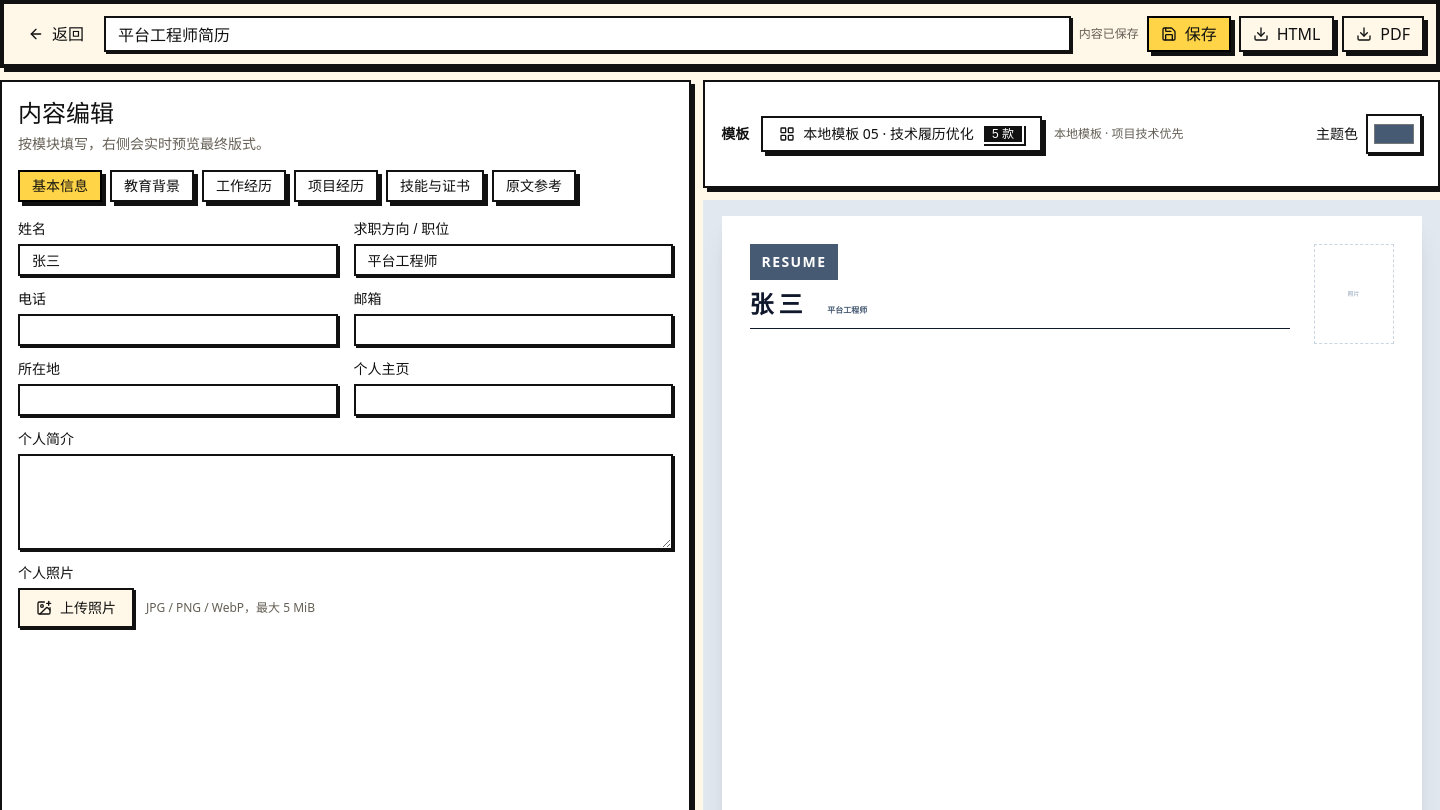
it: resume writer template and project materials › uses another candidate project directly and edits technologies as horizontal tokens
Click the button "项目经历" at {"x": 336, "y": 186}, box left=294, top=170, right=378, bottom=202
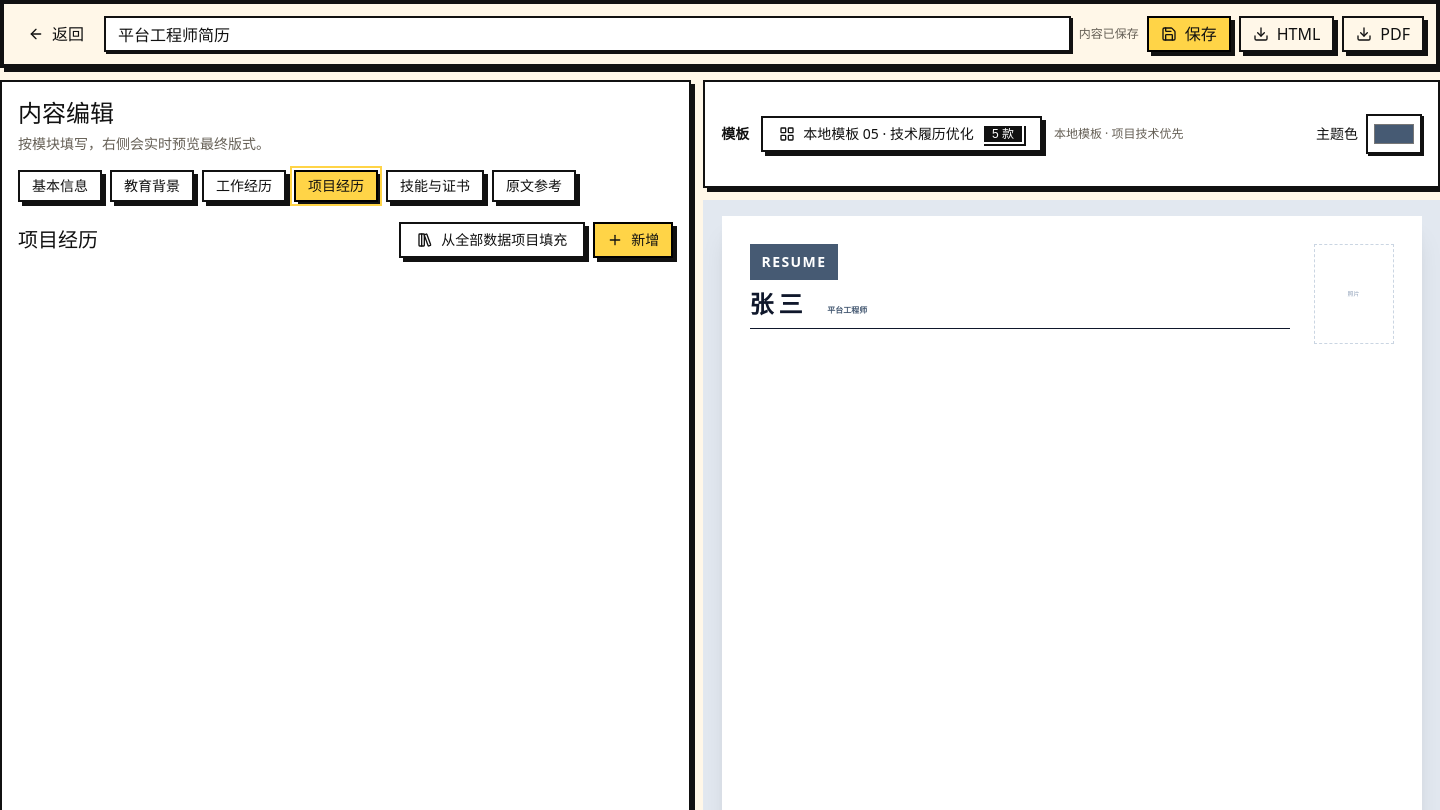
Click the button "从全部数据项目填充" at {"x": 492, "y": 240}, box left=399, top=222, right=585, bottom=258
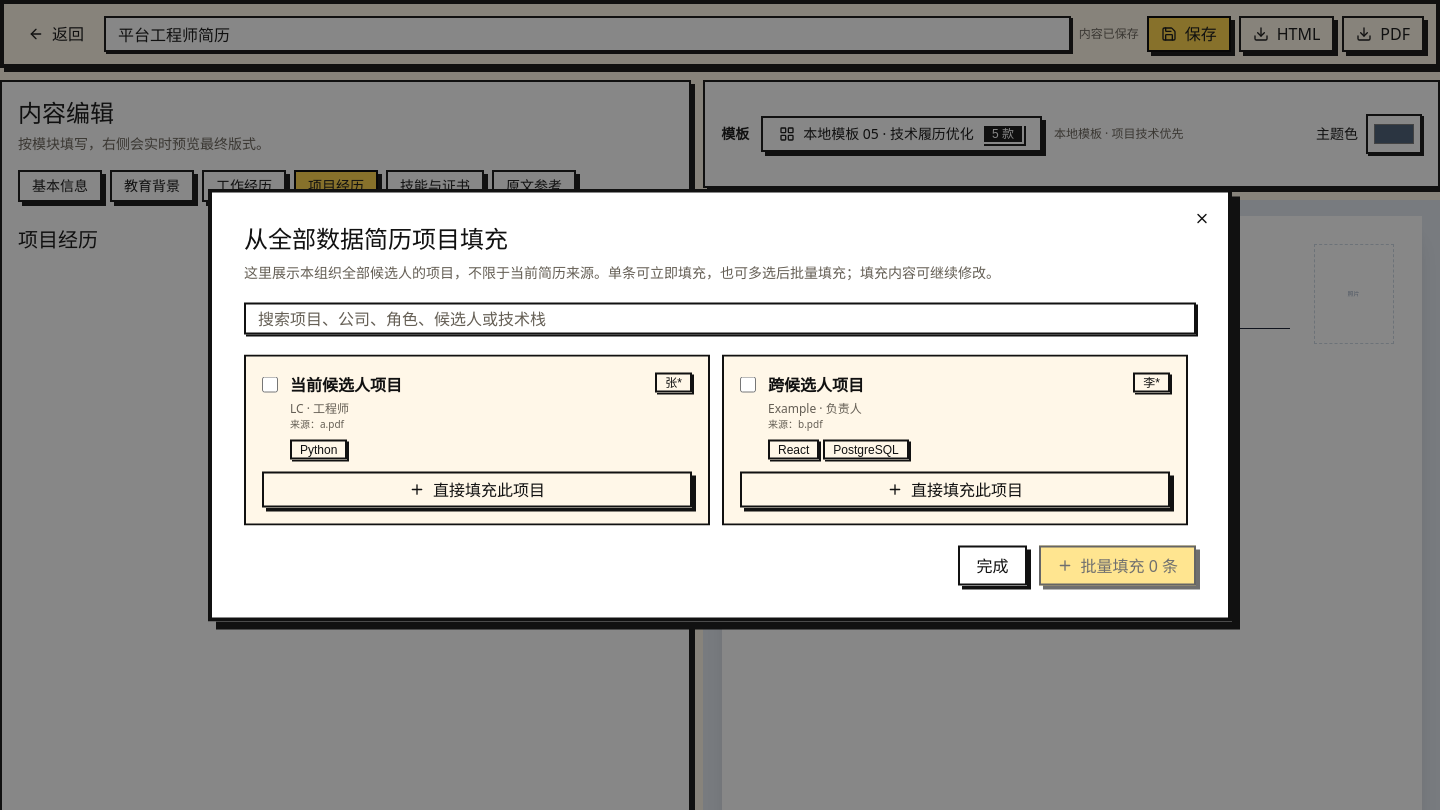
Result: the text "当前候选人项目" is shown at left=290, top=372, right=402, bottom=396
Result: the text "跨候选人项目" is shown at left=768, top=374, right=864, bottom=396
Result: the icon "李*" is shown at left=1133, top=372, right=1170, bottom=392
Click the button "直接填充此项目" below "React" at {"x": 955, "y": 490}, box left=740, top=472, right=1170, bottom=508
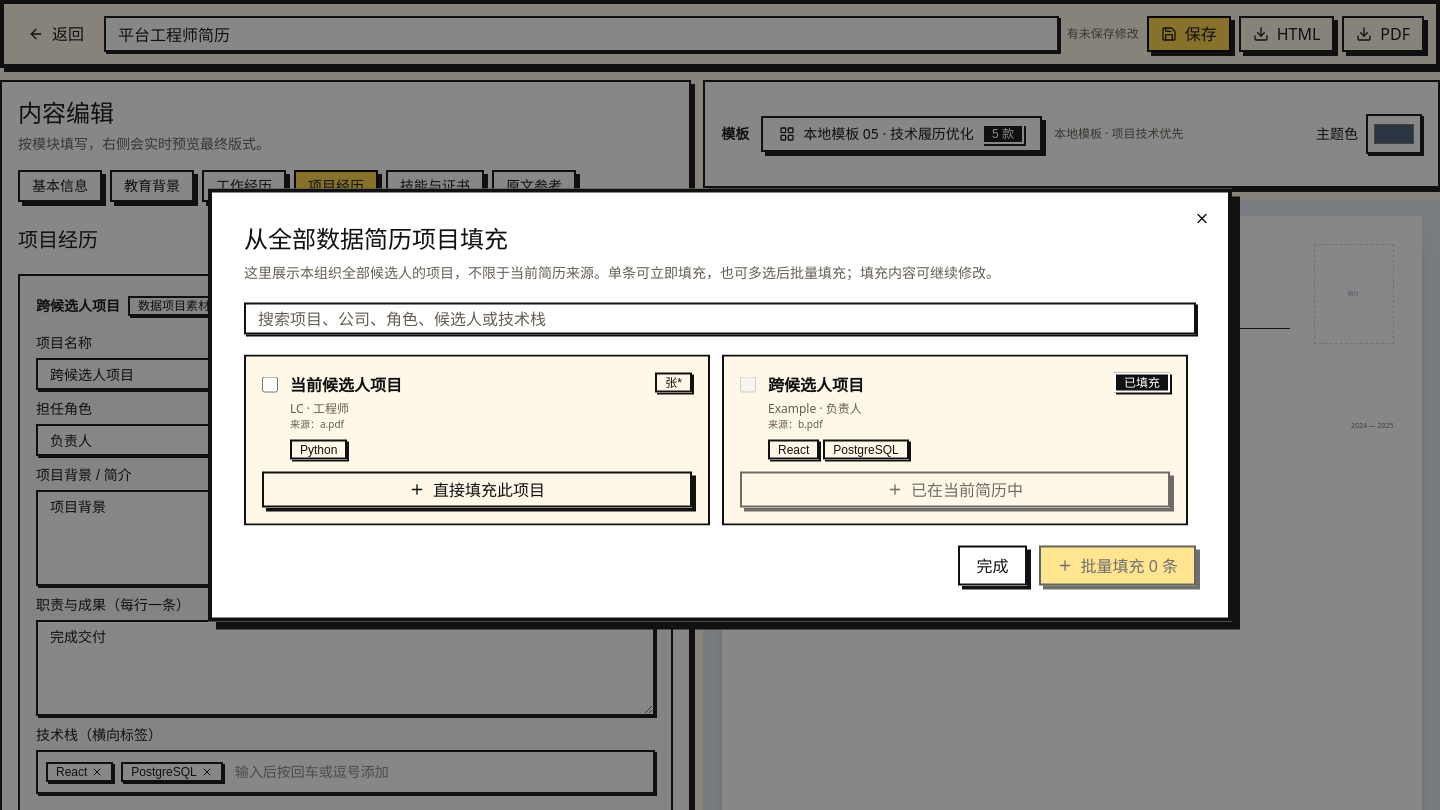
Click the button "完成" at {"x": 992, "y": 566}, box left=958, top=546, right=1026, bottom=586
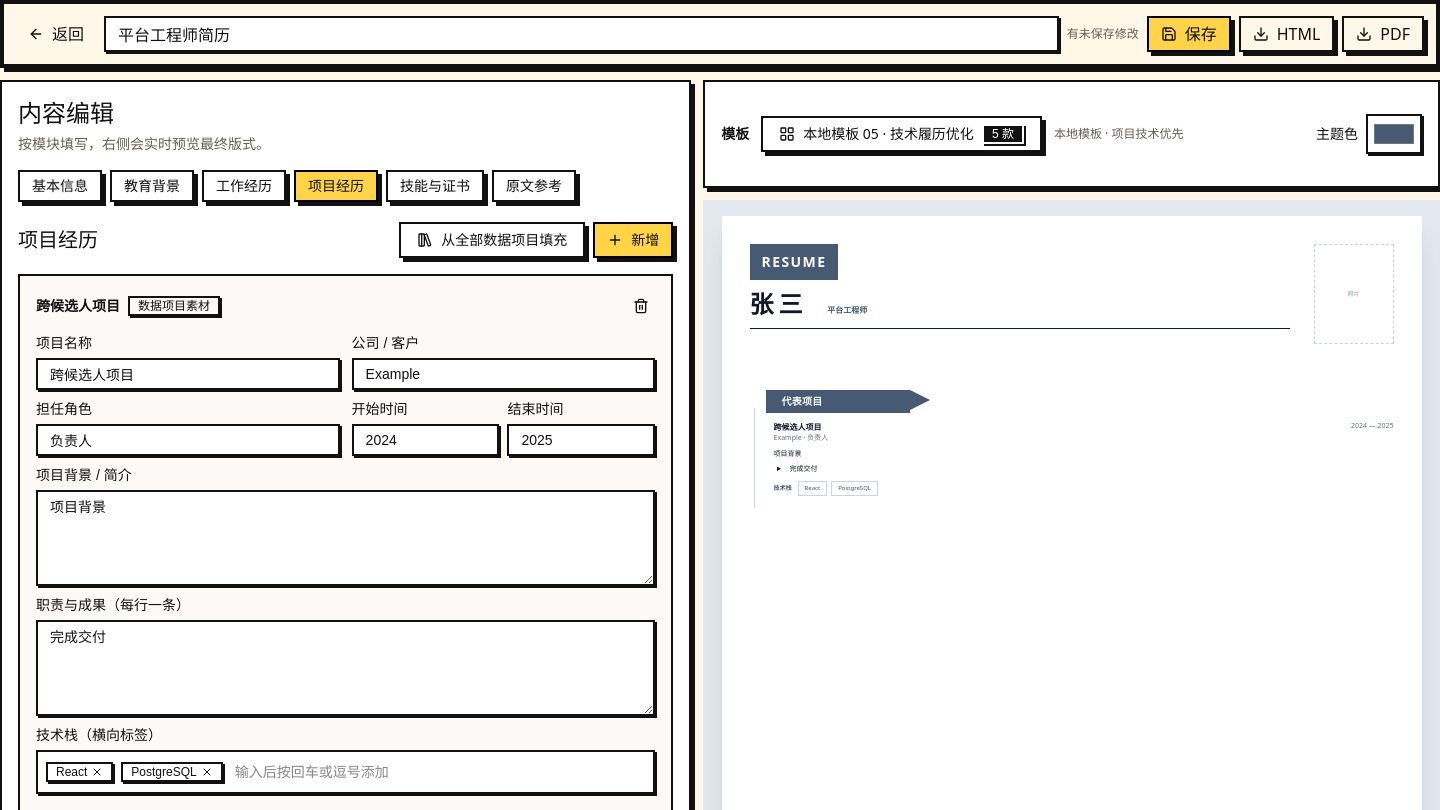
Result: the field showing "跨候选人项目" is shown at left=36, top=358, right=340, bottom=390
Result: the text "React" is shown at left=46, top=762, right=113, bottom=782
Type "TypeScript" into the field named "添加技术栈" at {"x": 438, "y": 772}, box left=231, top=764, right=645, bottom=780
Then press Enter
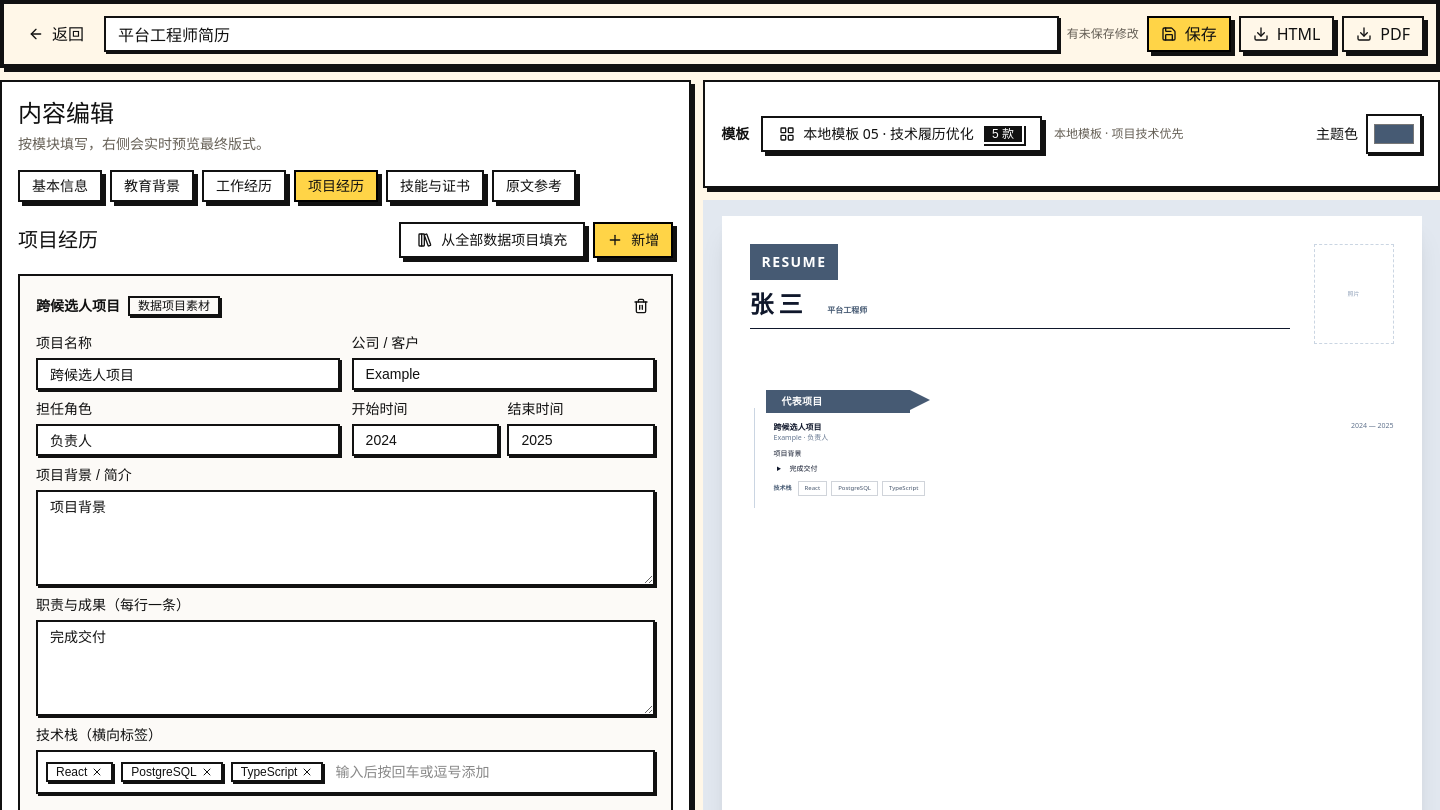
Result: the text "TypeScript" is shown at left=231, top=762, right=323, bottom=782
